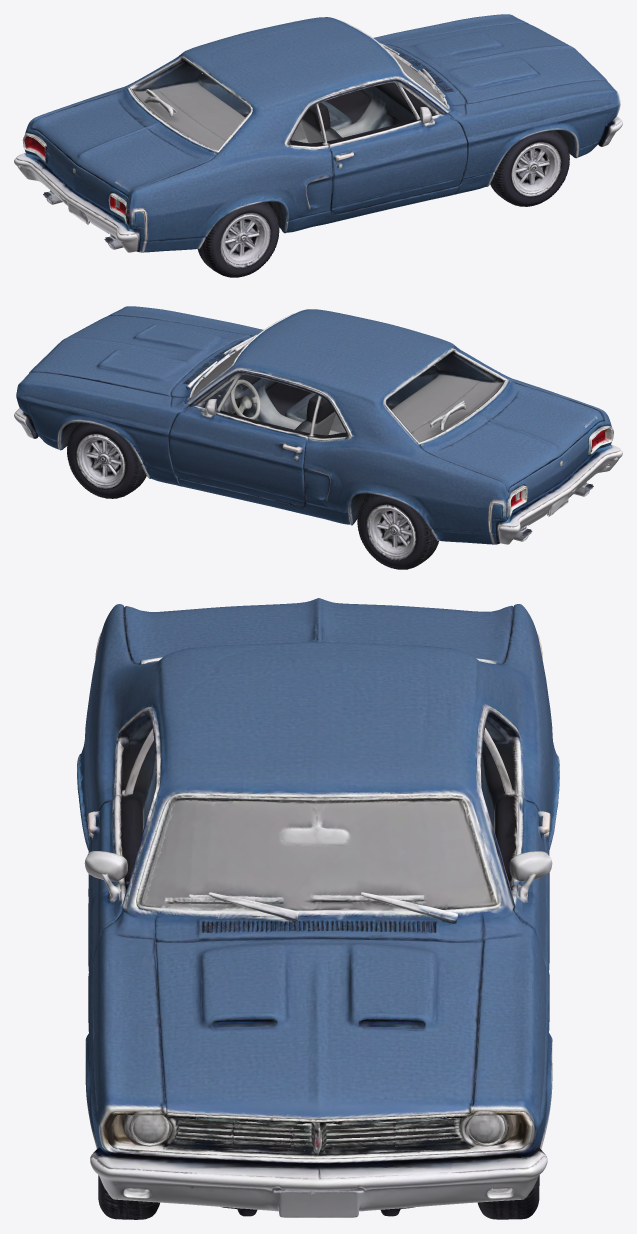
File: blue_fastback.glb
3 views of the same model, one above another, from view 1: azimuth 30°, elevation 25°; view 2: azimuth 150°, elevation 25°; view 3: azimuth 270°, elevation 25° (orthographic). The views are drawn at different scales.
Visible parts, largest first — view 1: tripo_node_4bfbe1be-d668-4c92-b80b-1aafc0a52ef8; view 2: tripo_node_4bfbe1be-d668-4c92-b80b-1aafc0a52ef8; view 3: tripo_node_4bfbe1be-d668-4c92-b80b-1aafc0a52ef8.
Boxes of the visible parts, x1,y1,x2,y2 form: tripo_node_4bfbe1be-d668-4c92-b80b-1aafc0a52ef8: (14,14,622,277); tripo_node_4bfbe1be-d668-4c92-b80b-1aafc0a52ef8: (14,306,622,569); tripo_node_4bfbe1be-d668-4c92-b80b-1aafc0a52ef8: (77,598,559,1219).
Size of the model in its own units: 0.9793 by 0.2918 by 0.3974.
1 material, 1 textured.
